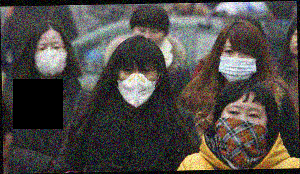with_mask: (218, 102, 270, 163), (116, 60, 159, 107), (215, 43, 258, 85), (32, 40, 68, 78)
without_mask: (133, 26, 163, 48)
